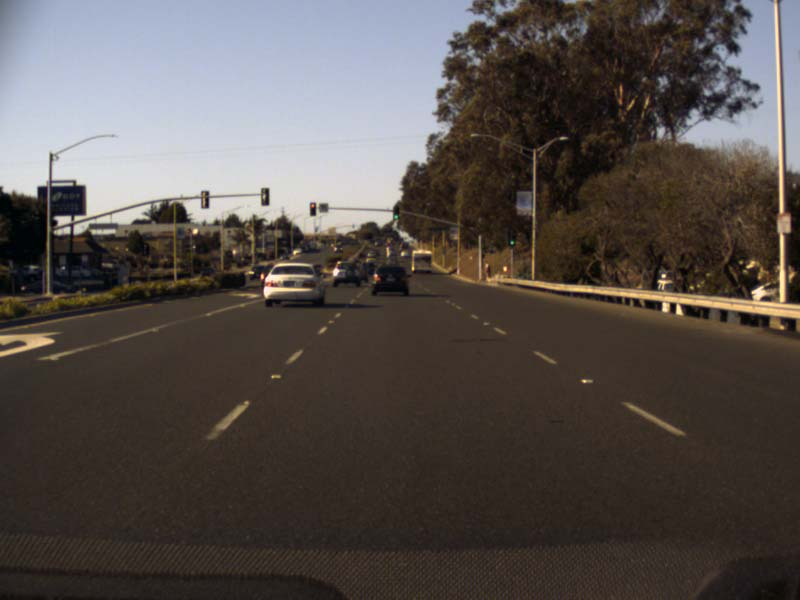Green: (507, 229, 515, 246), (393, 206, 398, 219)
Red: (310, 203, 315, 215)
